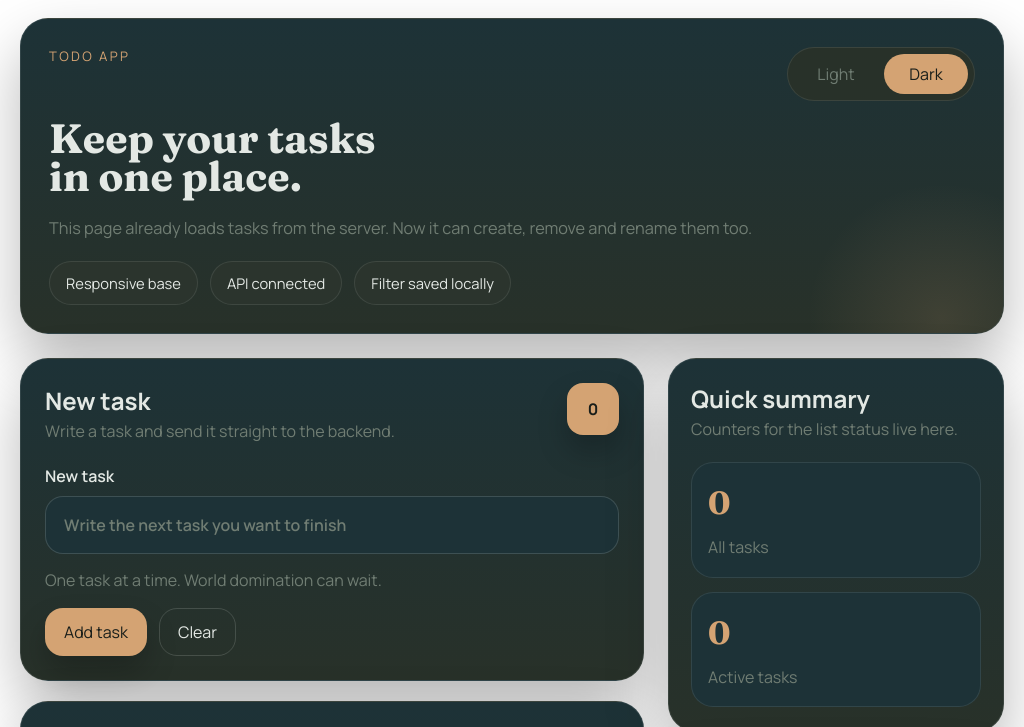
TodoPage › creates a new task
Type "Ship feature" into the field labelled "New task".
click(332, 525); type("Ship feature")  # box [45, 496, 619, 554]
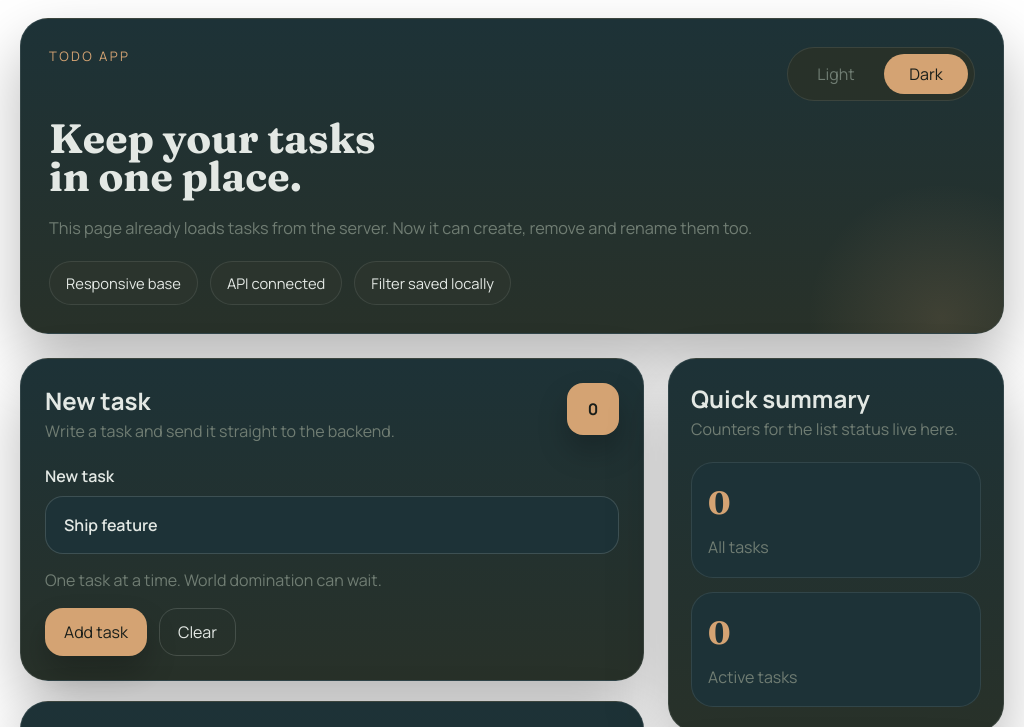
Click the button "Add task".
click(96, 632)  # box [45, 608, 147, 656]
(page scrolled)
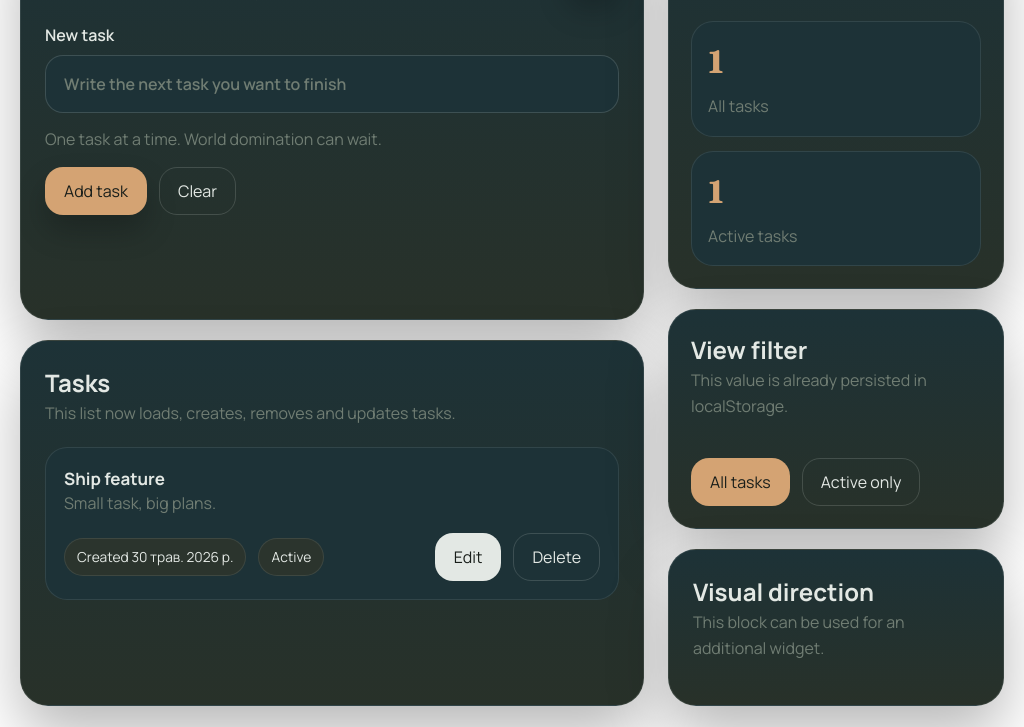
Expected: the heading "Ship feature" is shown, [64, 467, 165, 490]
